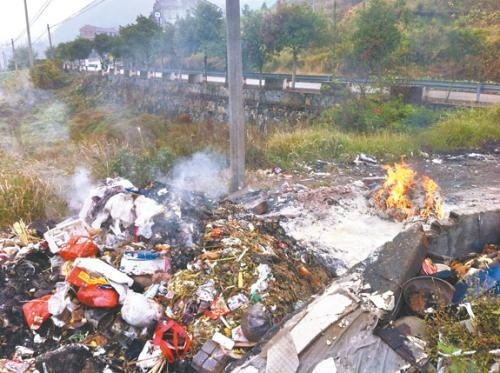fire: (373, 158, 444, 221)
